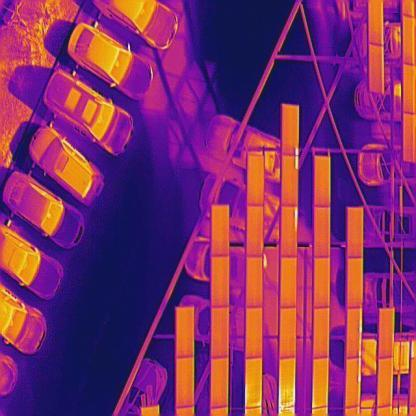Diode: (281, 206, 299, 258), (244, 357, 262, 408), (280, 358, 296, 410), (282, 105, 298, 156), (346, 358, 362, 409), (282, 156, 298, 206), (347, 308, 362, 358)
Normal: (210, 256, 230, 307), (210, 308, 230, 359), (210, 206, 230, 256), (175, 356, 195, 406), (175, 308, 195, 356), (247, 154, 265, 206), (280, 257, 298, 308), (314, 156, 332, 206), (314, 208, 332, 258), (346, 208, 364, 258), (247, 206, 264, 258), (210, 359, 228, 408), (247, 257, 264, 308), (379, 309, 396, 358), (281, 307, 297, 358), (247, 307, 263, 358), (378, 356, 394, 407), (314, 258, 330, 308), (348, 258, 364, 308), (314, 308, 330, 358), (313, 359, 329, 409), (402, 15, 416, 66), (403, 63, 416, 114), (403, 112, 416, 162)
